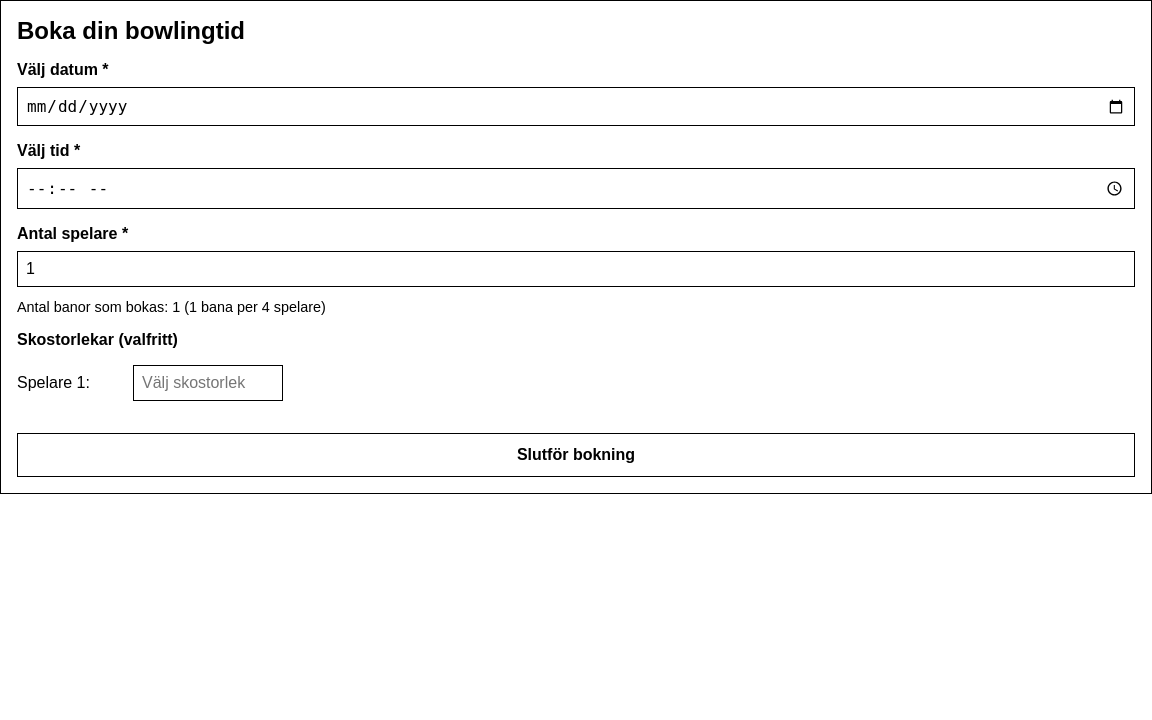
it: BookingPage › User Story 2: Välja skostorlek för varje spelare › ska visa skostorleksfält för varje spelare
The image size is (1152, 720).
Replace the text in the number field with test id "players-input" with "2" at {"x": 576, "y": 269}, box [17,251,1135,287]
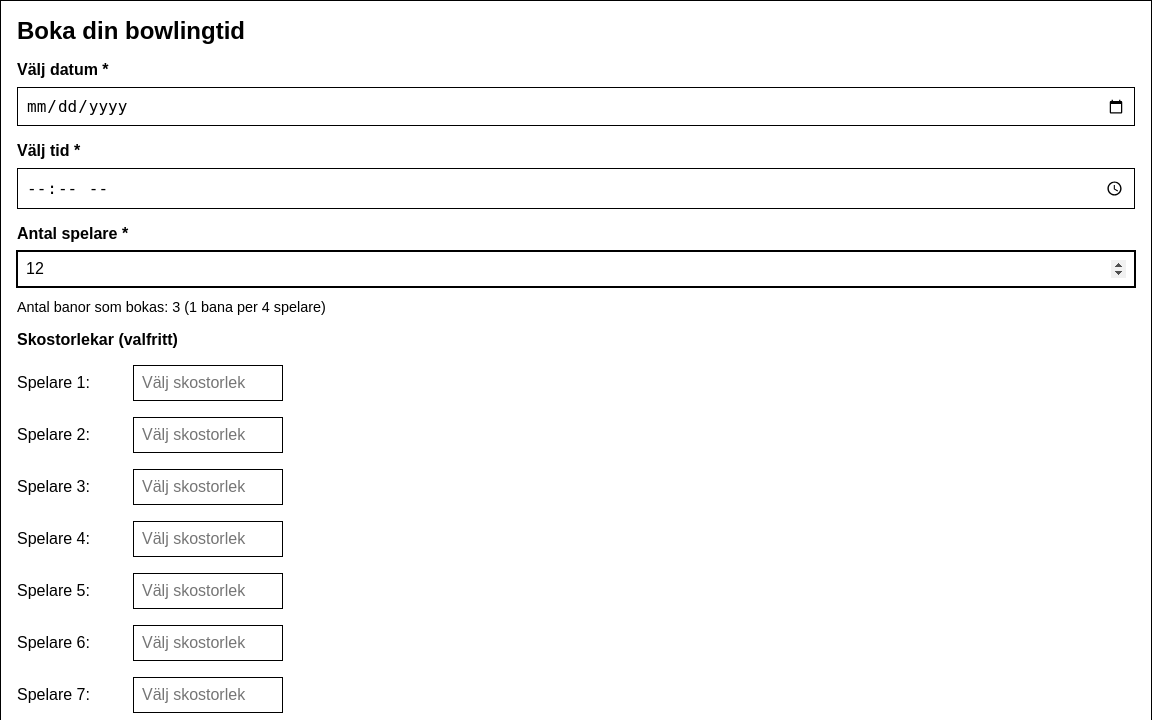
expect the number field with test id "shoe-size-input-1" is shown: met, box [133,365,283,401]
expect the number field with test id "shoe-size-input-2" is shown: met, box [133,417,283,453]
